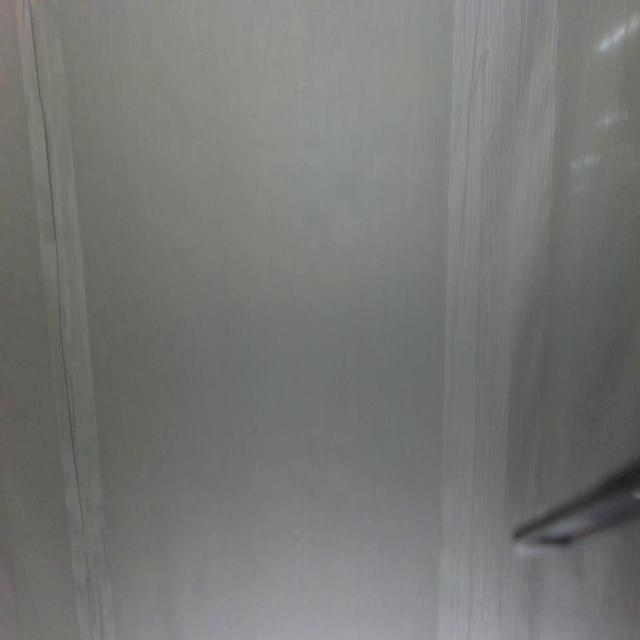crease: (14, 1, 114, 640), (436, 0, 508, 639)
